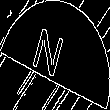N_S: (36, 24, 74, 86)
